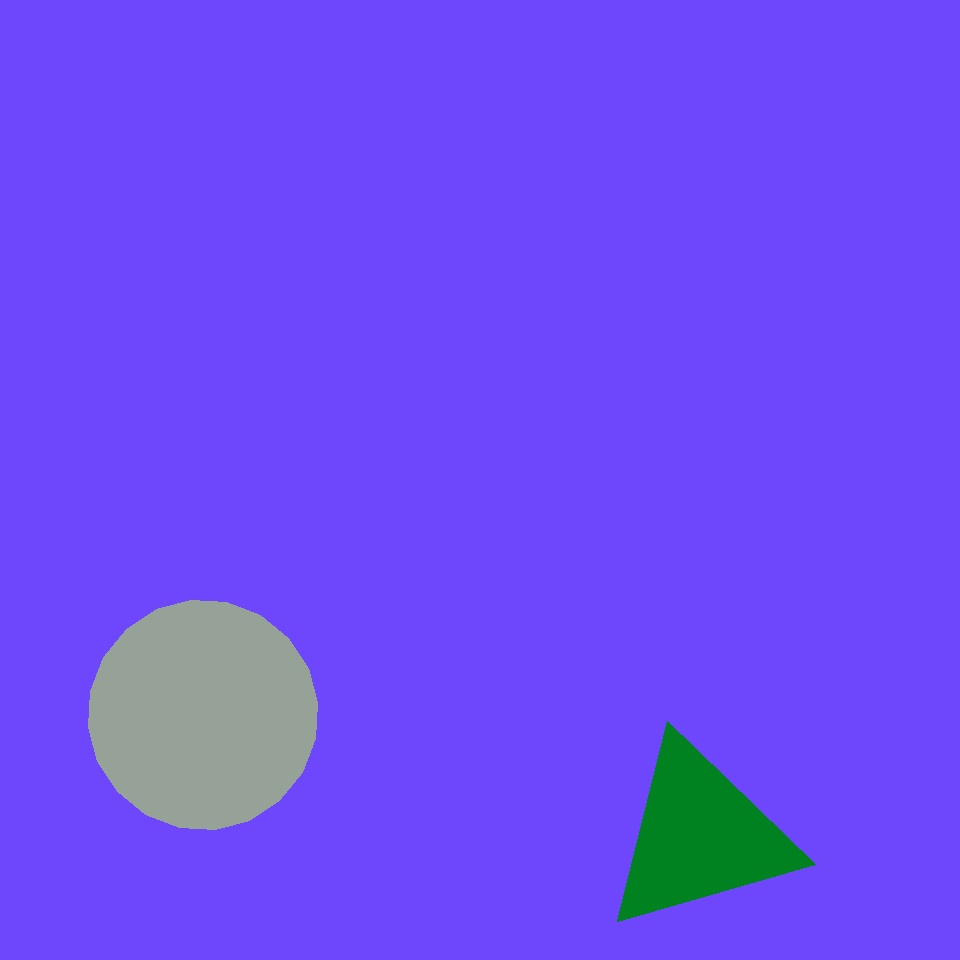circle: (59, 474, 276, 724), (601, 736, 799, 936)
square: (262, 539, 364, 640)
triangle: (88, 600, 318, 830), (700, 197, 863, 360)
